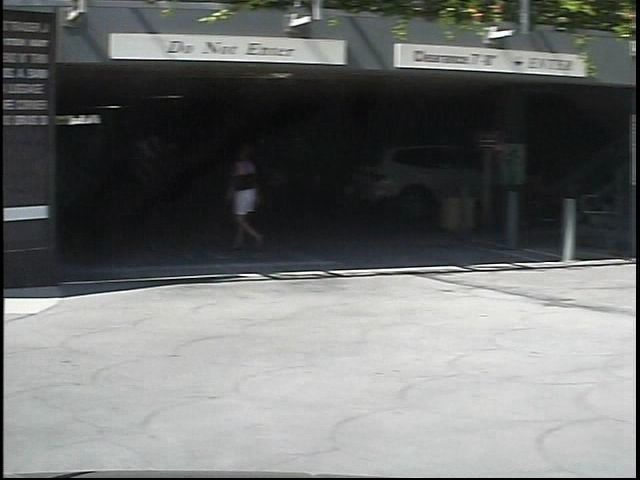person: (207, 140, 259, 259)
